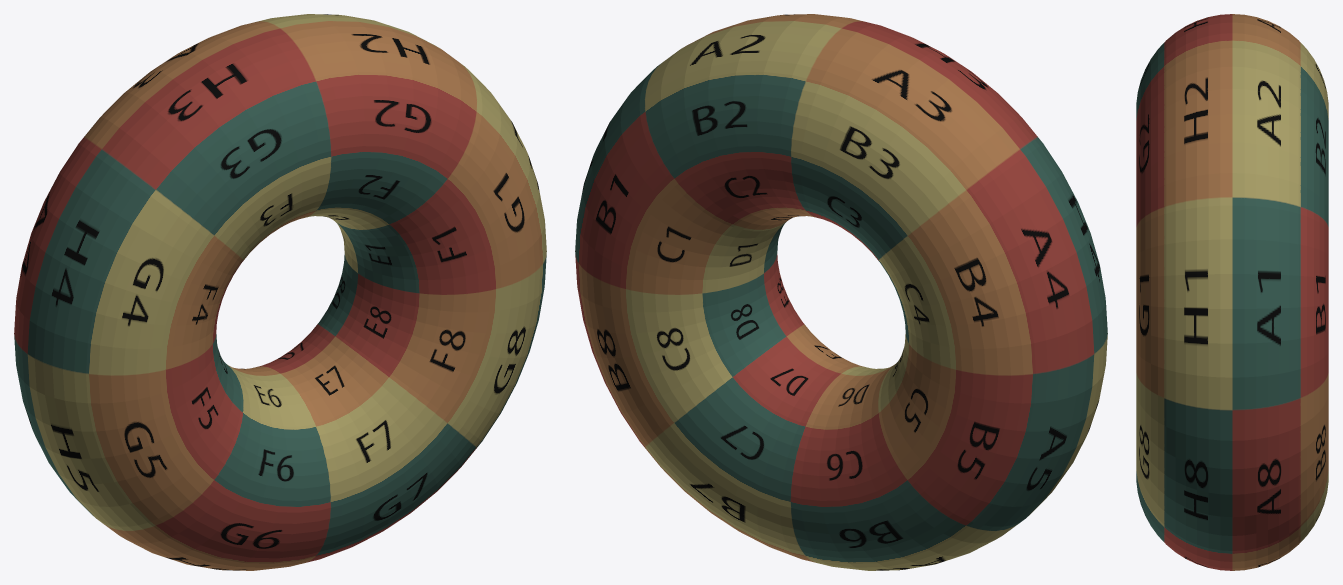
File: texture_torus_R5_r19.glb
The picture shows the model from 3 angles, left to right: view 1: azimuth 30°, elevation 25°; view 2: azimuth 150°, elevation 25°; view 3: azimuth 270°, elevation 25°; orthographic projection. The views are drawn at different scales.
Visible parts, largest first — view 1: world; view 2: world; view 3: world.
Part boxes in pixels (x1,y1,x2,y2): world: (14, 14, 546, 570); world: (575, 14, 1107, 570); world: (1136, 14, 1328, 570).
Size of the model in its own units: 20.4 by 20.36 by 7.05.
Materials: 1 (1 with a texture image).
